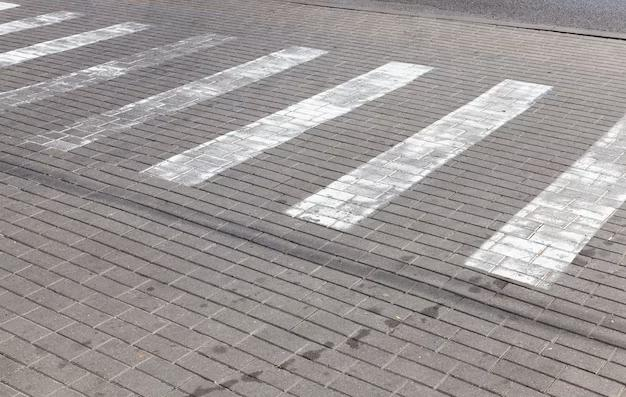faded_road_lines: (283, 78, 558, 228), (139, 60, 434, 185), (20, 46, 329, 153), (462, 110, 626, 292), (0, 30, 234, 116), (0, 15, 152, 69), (0, 5, 81, 39)
